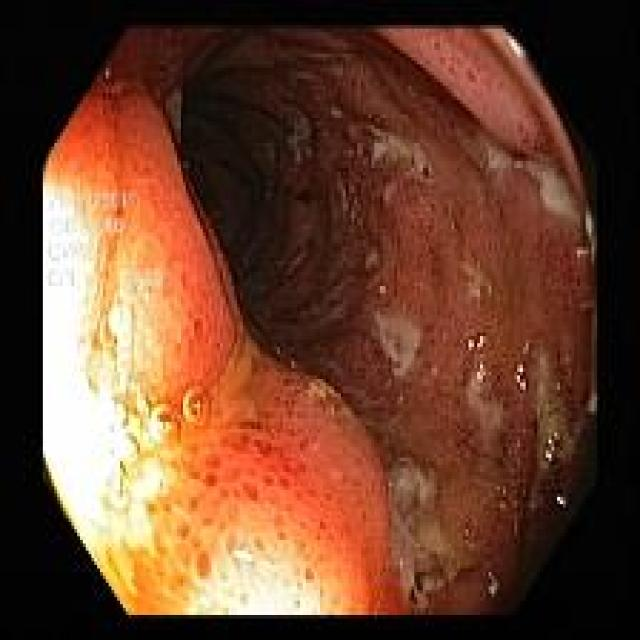ulcerative-colitis: (102, 28, 596, 615)
